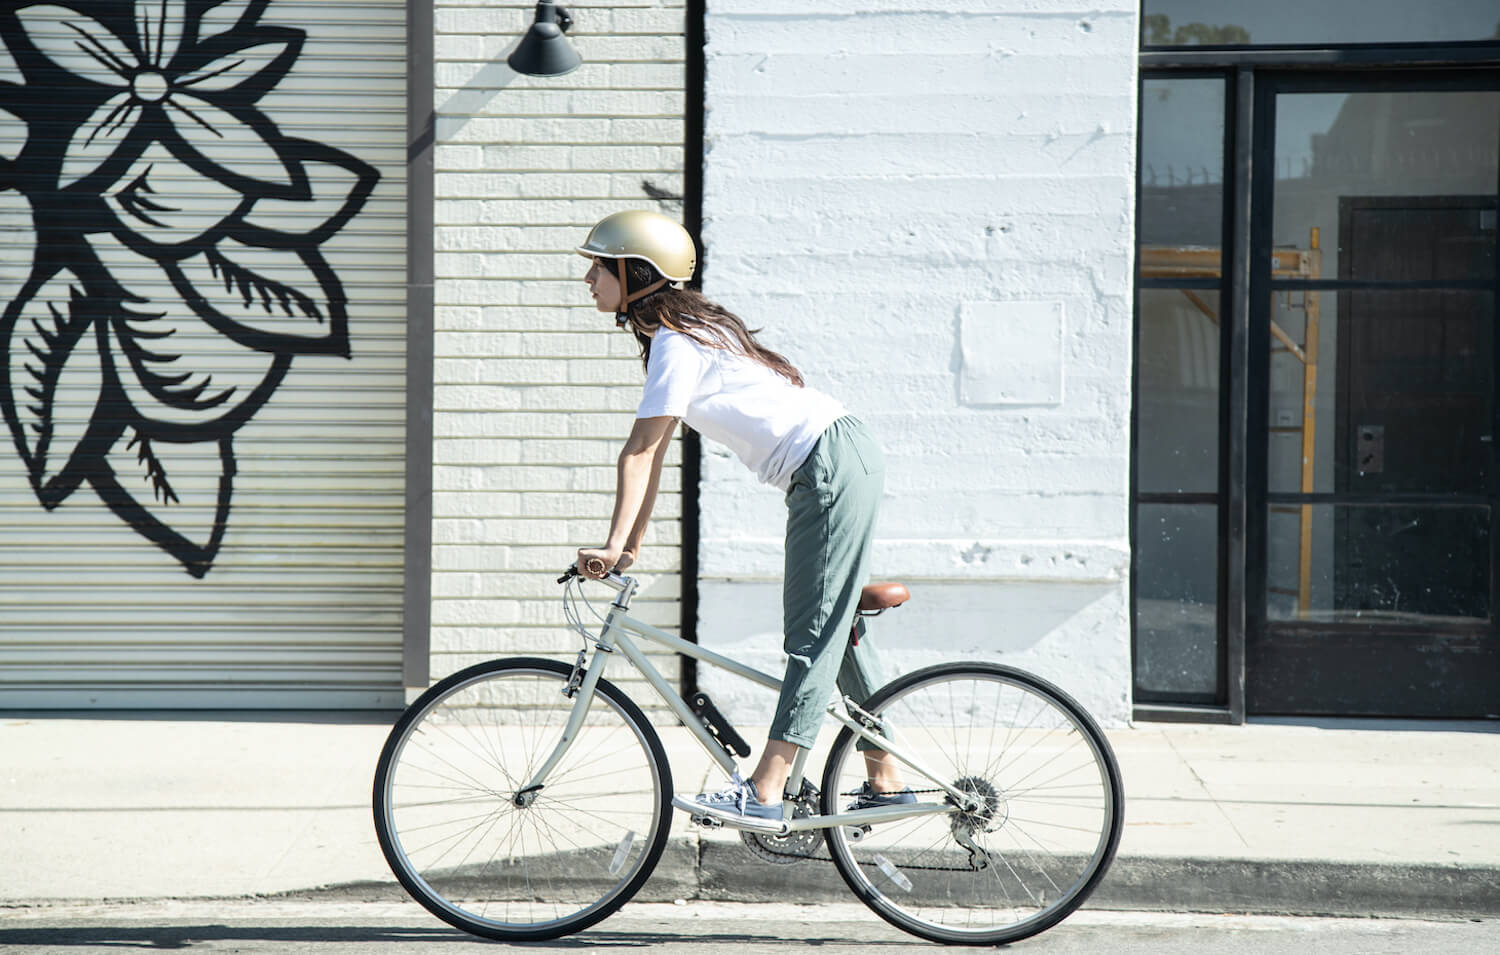helmet: (577, 210, 698, 313)
